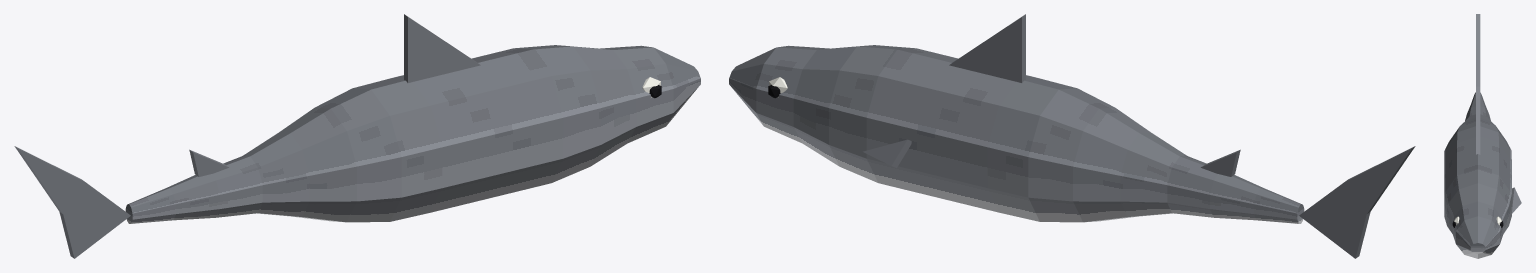
Rendered from bull_shark.glb.
The picture shows the model from 3 angles, left to right: view 1: azimuth 30°, elevation 25°; view 2: azimuth 150°, elevation 25°; view 3: azimuth 270°, elevation 25°; orthographic projection. The views are drawn at different scales.
Parts seen in each view (by area): view 1: fish_bull_shark; view 2: fish_bull_shark; view 3: fish_bull_shark.
Boxes of the visible parts, <box> form: fish_bull_shark: <box>14,14,700,258</box>; fish_bull_shark: <box>729,14,1415,258</box>; fish_bull_shark: <box>1444,14,1521,258</box>.
Bounding box in the file's own units: 1.2 × 0.334 × 0.2159.
Materials: 4 (1 with a texture image).
